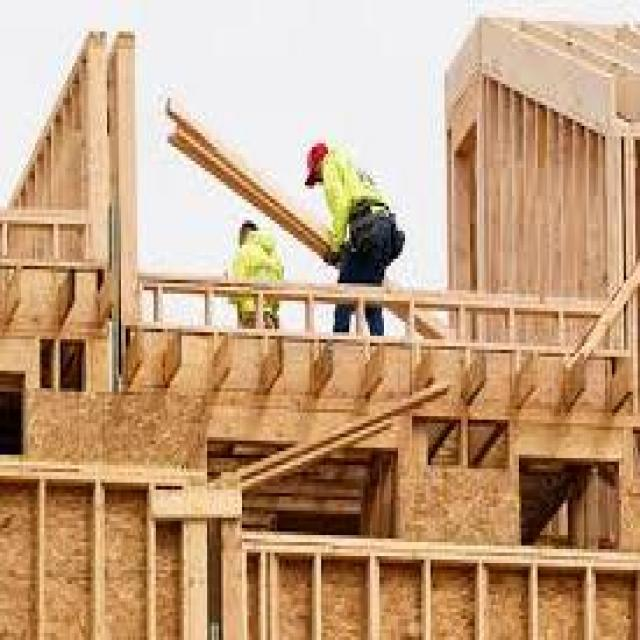Reflective-Jacket: (319, 140, 400, 259), (229, 233, 290, 316)
Safety-Helmet: (293, 129, 335, 189)
